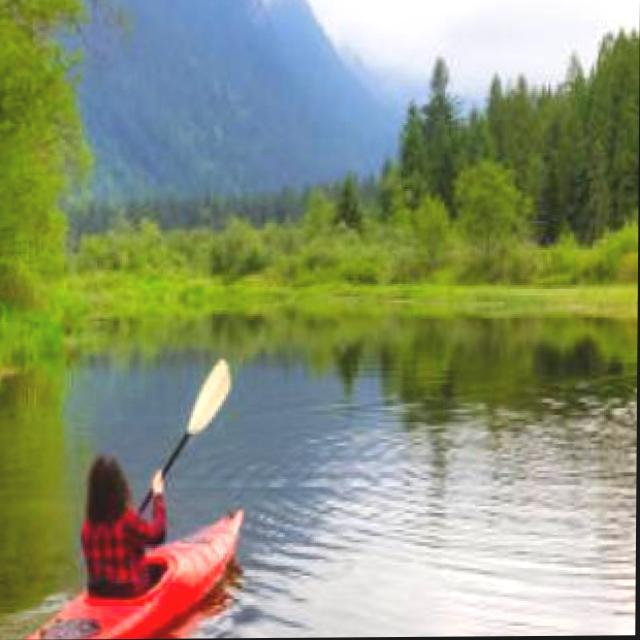kayak: (28, 512, 244, 640)
